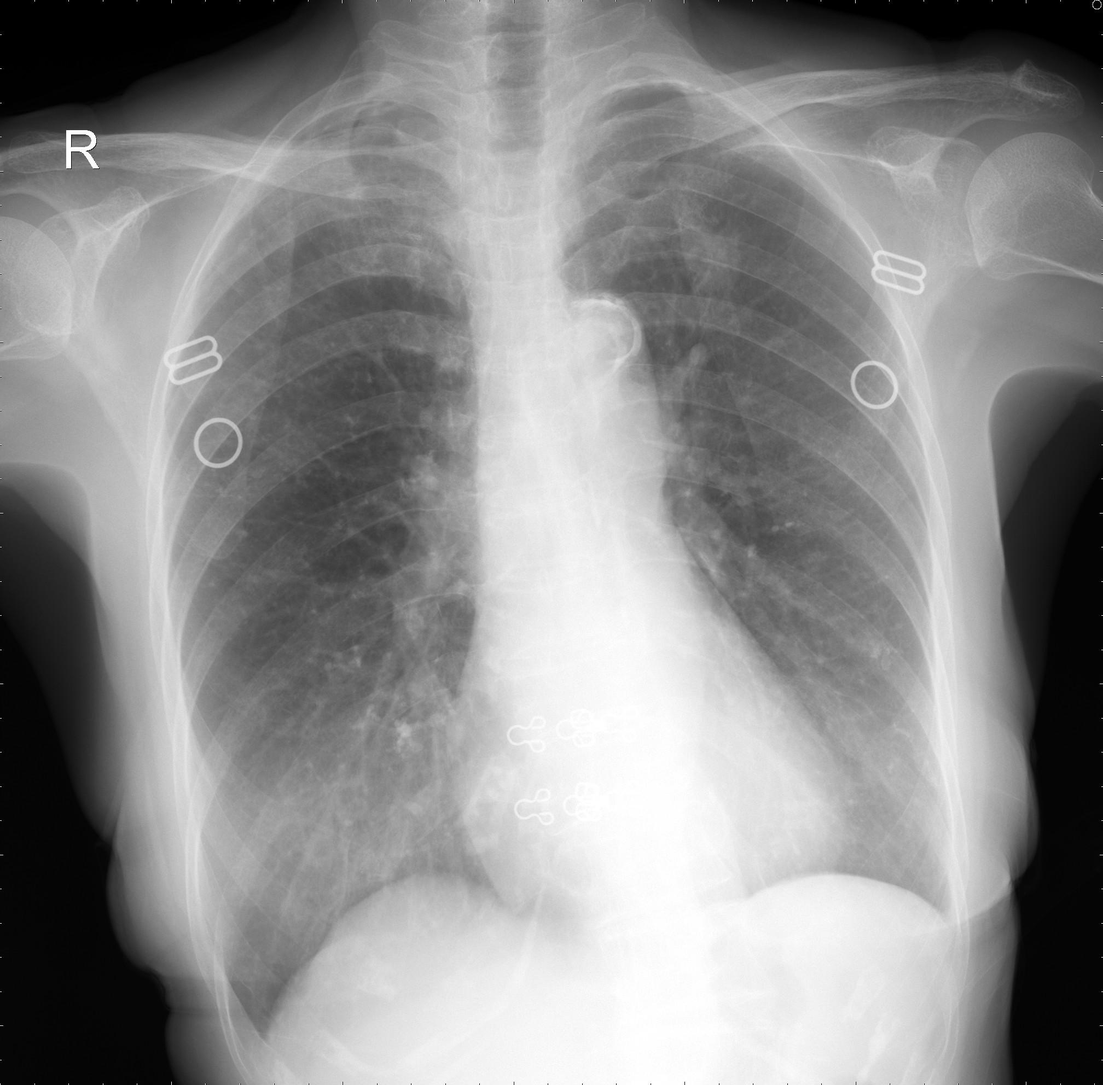Aortic enlargement: (535, 290, 648, 390)
